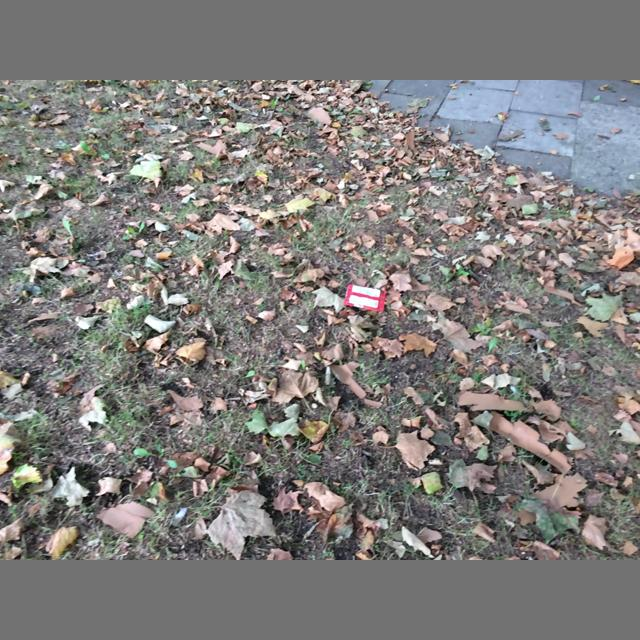litter: (344, 284, 386, 312)
